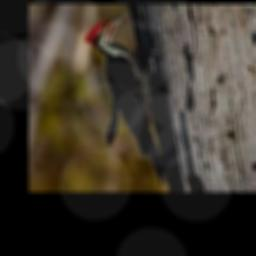Woodpecker: (84, 11, 169, 185)
